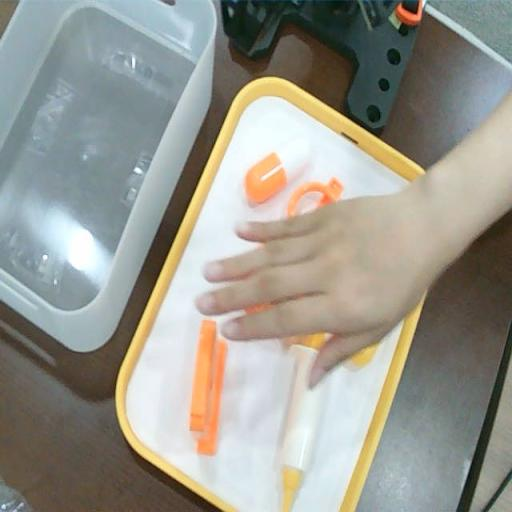hospital: (196, 195, 415, 381)
